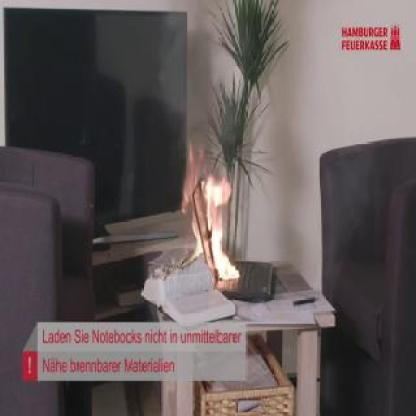Fire: (172, 149, 244, 290)
